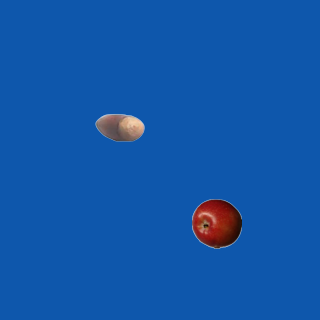Apple Braeburn: (191, 198, 241, 248)
Hazelnut: (94, 102, 144, 152)
